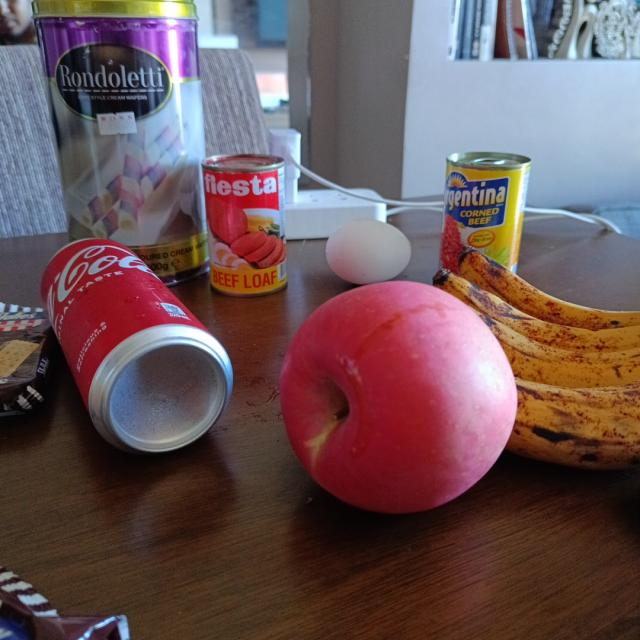apple: (281, 284, 517, 508)
coke: (40, 238, 236, 455)
egg: (326, 220, 412, 283)
